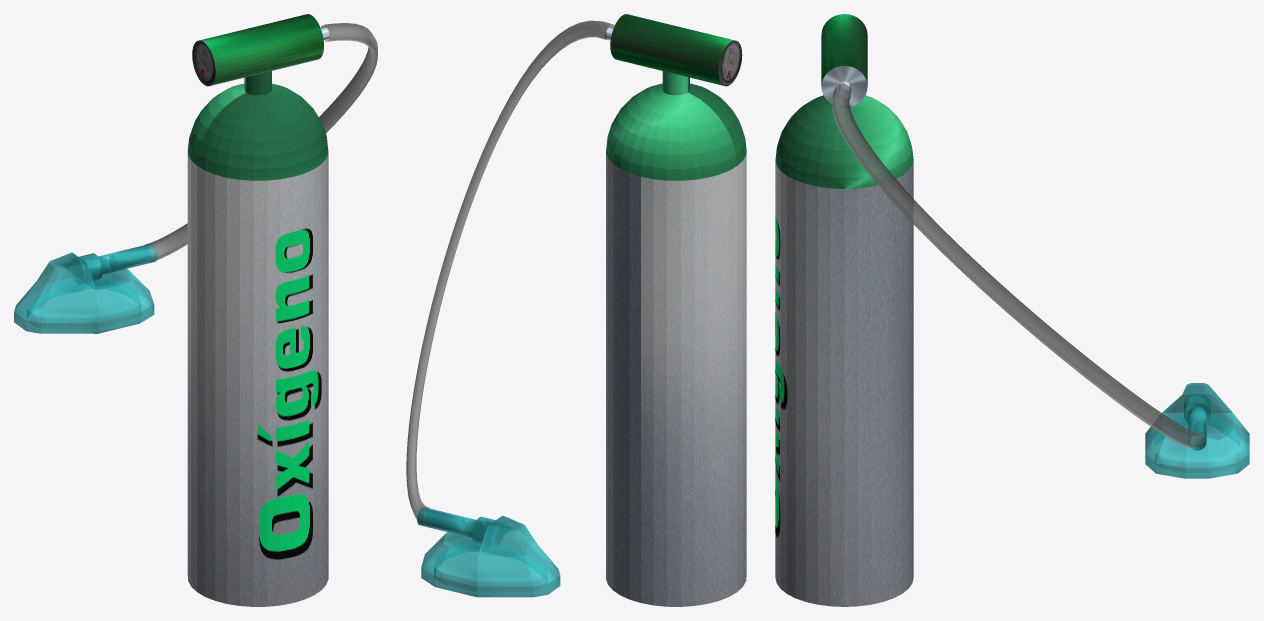
3 views of the same model, side by side, from view 1: azimuth 30°, elevation 25°; view 2: azimuth 150°, elevation 25°; view 3: azimuth 270°, elevation 25° (orthographic).
Parts seen in each view (by area): view 1: tubo, Tapa, Plane.002, regulador, NurbsPath, Cylinder; view 2: tubo, Tapa, Plane.002, NurbsPath, regulador, Cylinder; view 3: tubo, Tapa, NurbsPath, Plane.002, regulador, Cylinder.
Boxes of the visible parts, <box> form: tubo: <box>187,149,328,606</box>; Tapa: <box>188,71,328,180</box>; Plane.002: <box>14,252,154,333</box>; regulador: <box>192,14,329,86</box>; NurbsPath: <box>144,23,377,262</box>; Cylinder: <box>70,244,157,284</box>; tubo: <box>606,149,746,606</box>; Tapa: <box>606,71,746,180</box>; Plane.002: <box>421,515,560,597</box>; NurbsPath: <box>406,20,614,525</box>; regulador: <box>605,14,742,86</box>; Cylinder: <box>417,507,503,547</box>; tubo: <box>775,160,913,606</box>; Tapa: <box>775,95,913,188</box>; NurbsPath: <box>832,83,1205,448</box>; Plane.002: <box>1145,383,1249,478</box>; regulador: <box>821,14,867,106</box>; Cylinder: <box>1184,394,1210,450</box>.
Size of the model in its own units: 0.255 by 0.6434 by 0.5142.
5 materials, 5 textured.
